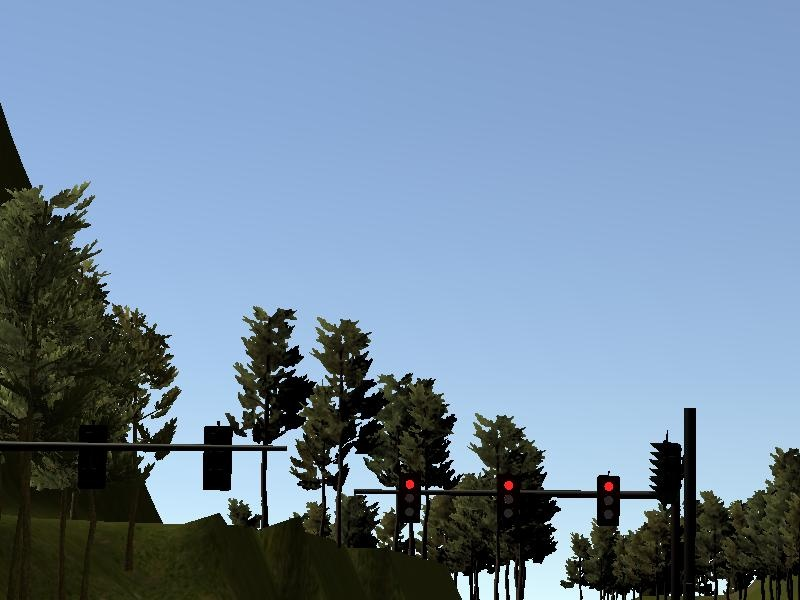red: (596, 475, 622, 528), (497, 473, 523, 526), (395, 472, 421, 525)
